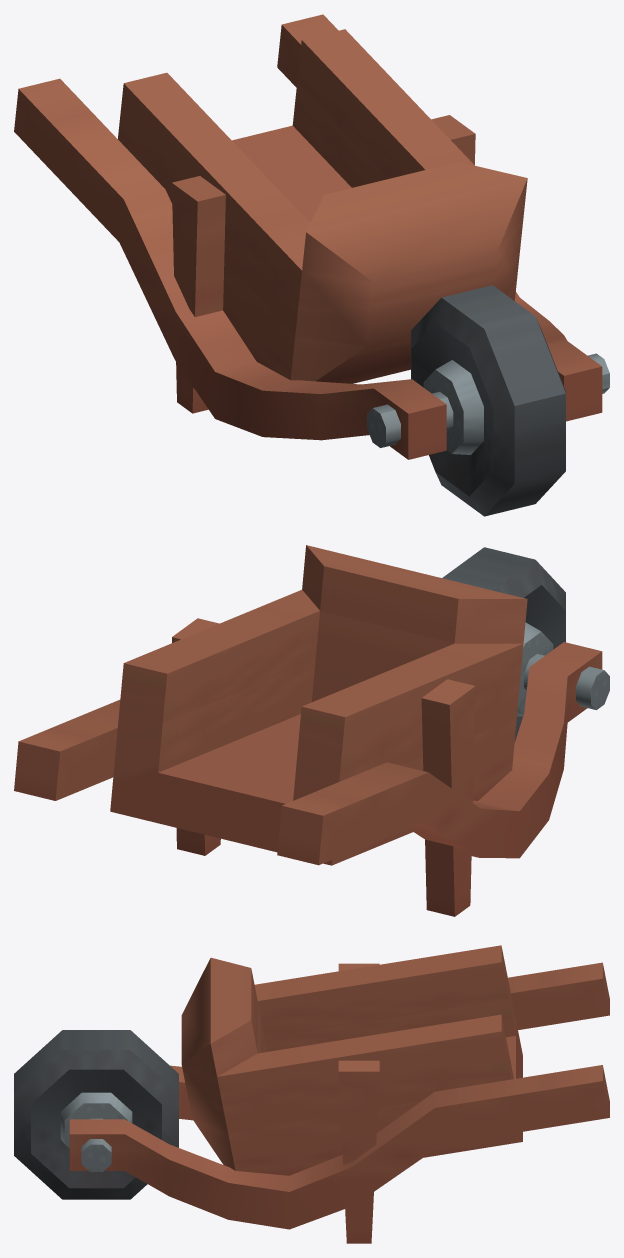
File: wheelbarrow.glb
3 views of the same model, one above another, from view 1: azimuth 30°, elevation 25°; view 2: azimuth 150°, elevation 25°; view 3: azimuth 270°, elevation 25° (orthographic). The views are drawn at different scales.
Visible parts, largest first — view 1: wheelbarrow; view 2: wheelbarrow; view 3: wheelbarrow.
Part boxes in pixels (x1=…): wheelbarrow: x1=14, y1=14, x2=609, y2=516; wheelbarrow: x1=14, y1=545, x2=609, y2=916; wheelbarrow: x1=14, y1=945, x2=609, y2=1243.
Bounding box in the file's own units: 0.238 × 0.1884 × 0.5057.
Materials: 1 (1 with a texture image).
